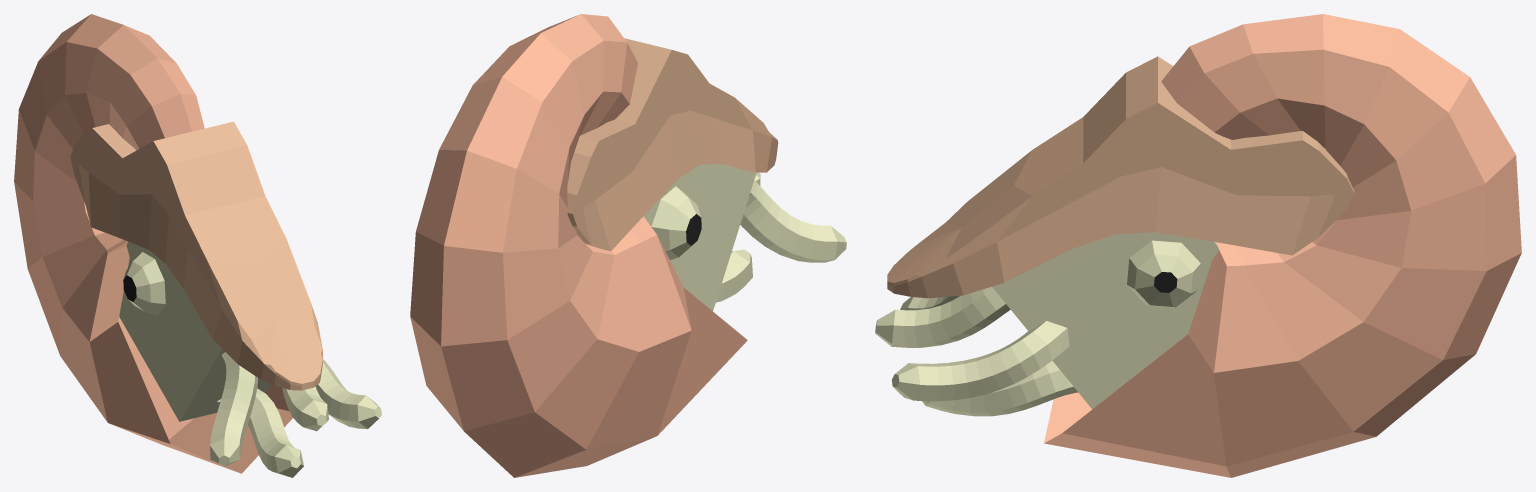
Rendered from Nautilus.fbx.
3 renders of one model, left to right at view 1: azimuth 30°, elevation 25°; view 2: azimuth 150°, elevation 25°; view 3: azimuth 270°, elevation 25°, orthographic. The views are drawn at different scales.
Visible parts, largest first — view 1: Circle; view 2: Circle; view 3: Circle.
Part boxes in pixels (<box>): Circle: <box>14,14,381,477</box>; Circle: <box>410,14,846,477</box>; Circle: <box>875,14,1521,477</box>.
Size of the model in its own units: 1.33 by 3.86 by 3.06.
